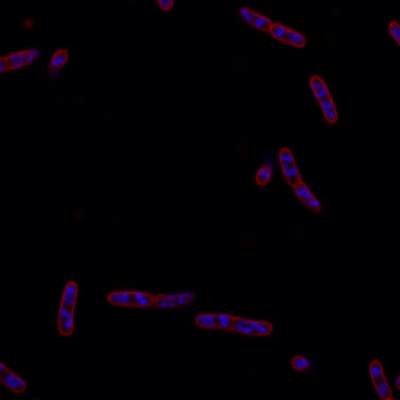Control: (277, 145, 324, 212), (238, 5, 308, 49), (192, 310, 276, 338), (306, 74, 340, 124), (57, 279, 80, 337)
Oblique: (102, 287, 197, 310), (251, 155, 278, 189), (48, 46, 71, 80), (289, 354, 312, 372)
